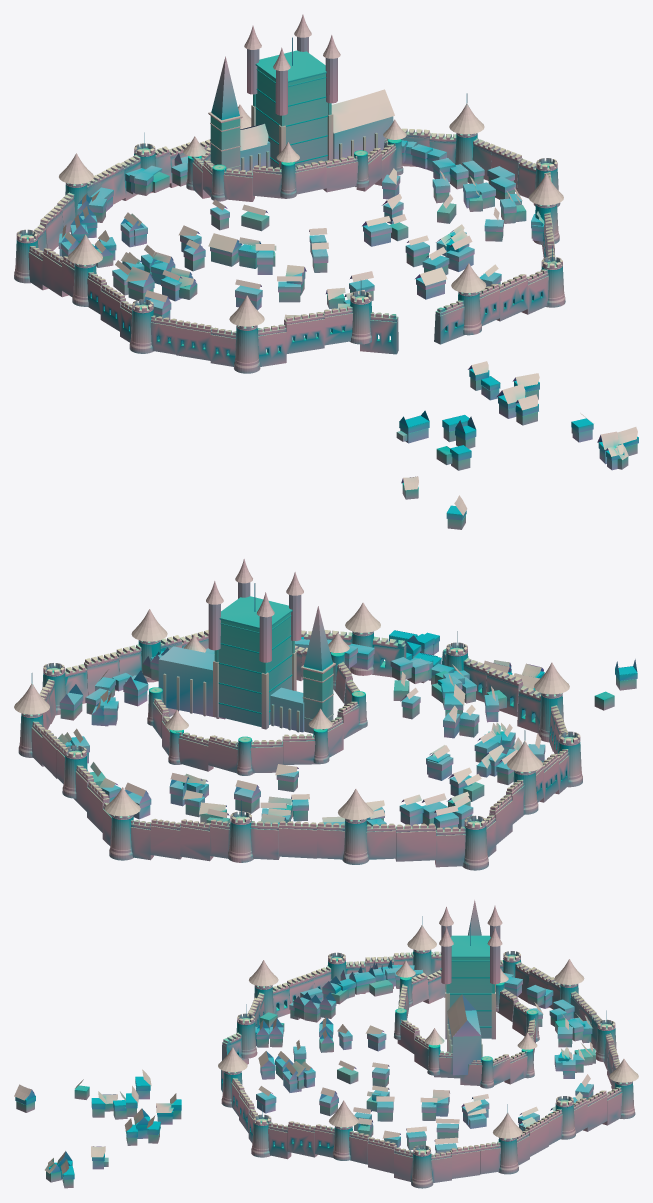
Rendered from town_lite.glb.
3 renders of one model, top to bottom at view 1: azimuth 30°, elevation 25°; view 2: azimuth 150°, elevation 25°; view 3: azimuth 270°, elevation 25°, orthographic. The views are drawn at different scales.
Parts seen in each view (by area): view 1: Vael town.001; view 2: Vael town.001; view 3: Vael town.001.
Part boxes in pixels (x1,y1,x2,y2): Vael town.001: (14, 14, 638, 529); Vael town.001: (14, 559, 637, 870); Vael town.001: (14, 900, 638, 1188).
Size of the model in its own units: 235 by 128 by 309.
